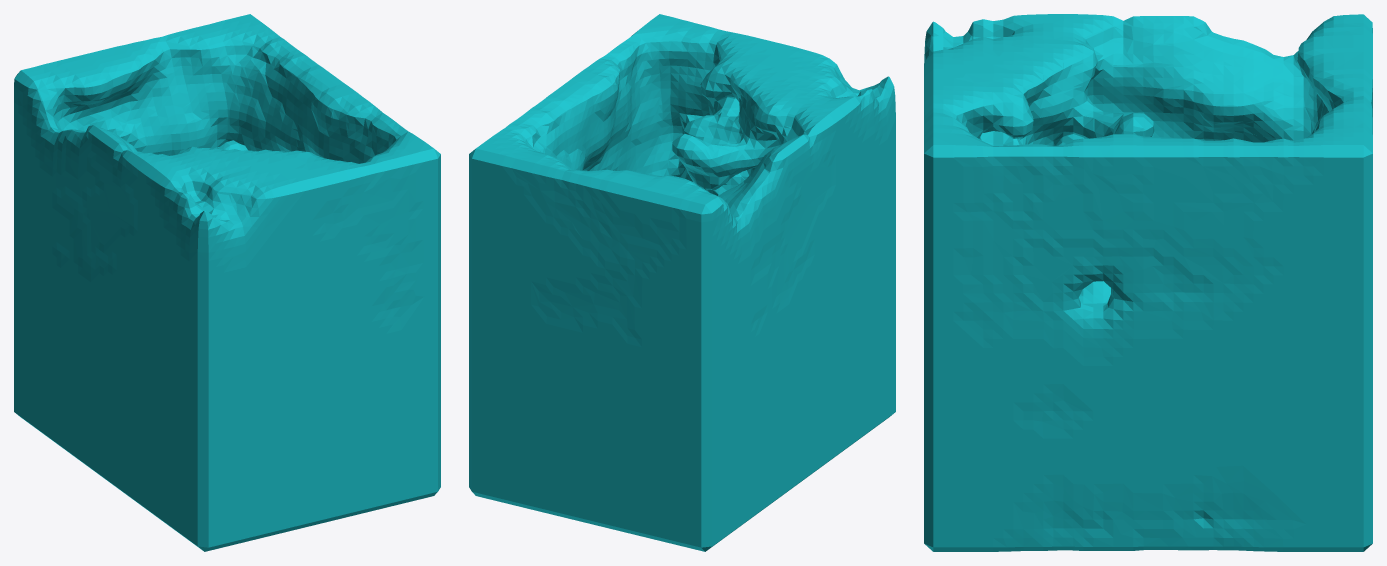
The picture shows the model from 3 angles, left to right: view 1: azimuth 30°, elevation 25°; view 2: azimuth 150°, elevation 25°; view 3: azimuth 270°, elevation 25°; orthographic projection. The views are drawn at different scales.
Parts seen in each view (by area): view 1: Liquid_Domain; view 2: Liquid_Domain; view 3: Liquid_Domain.
Part boxes in pixels (<box>): Liquid_Domain: <box>14,14,440,551</box>; Liquid_Domain: <box>469,14,895,551</box>; Liquid_Domain: <box>924,14,1372,551</box>.
Bounding box in the file's own units: 79.09 × 108 × 108.
